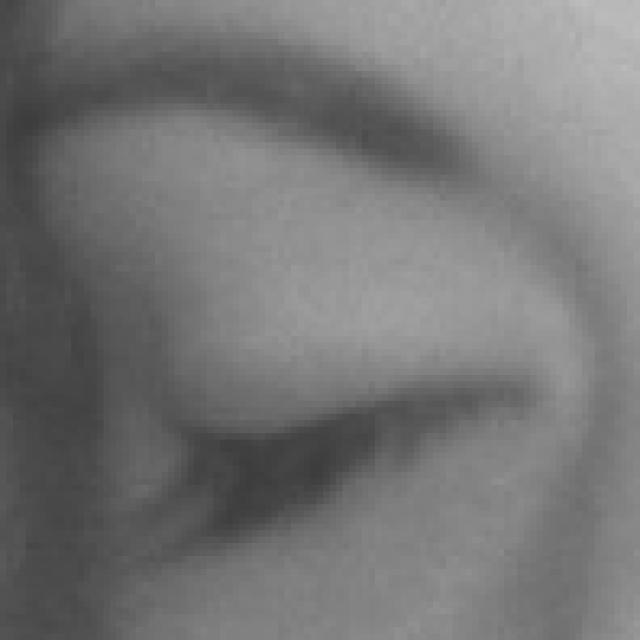Eyeclosed: (150, 225, 532, 636)
